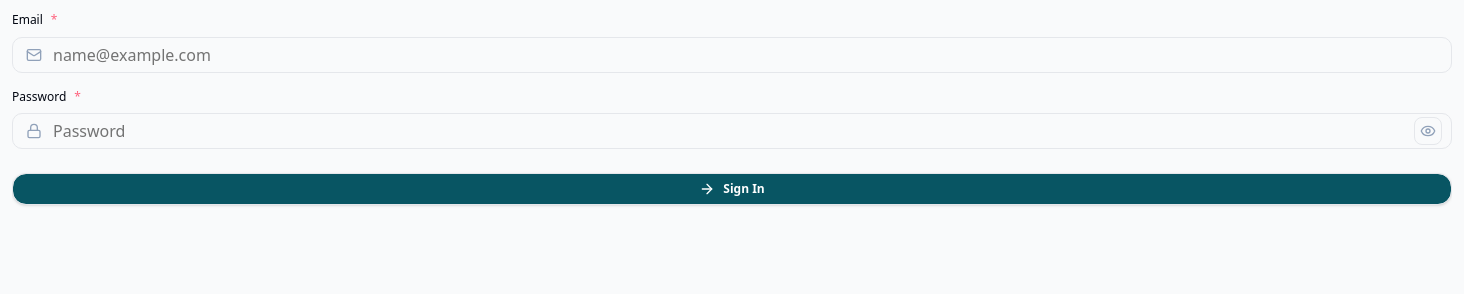
SignInForm › shows the generic error message on an unexpected failure
Type "admin@example.com" into the field with placeholder "name@example.com" at (732, 54), box [12,36,1452,72]
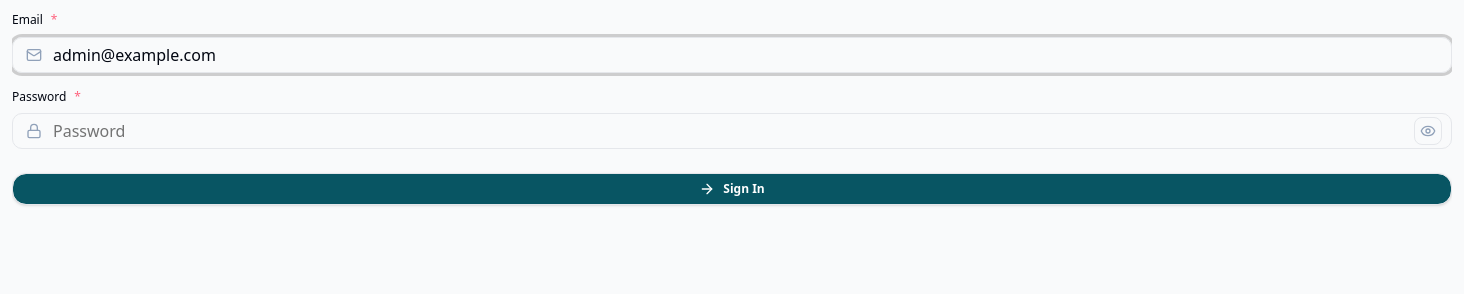
Type "password123" into the password field with placeholder "Password" at (732, 131), box [12,113,1452,149]
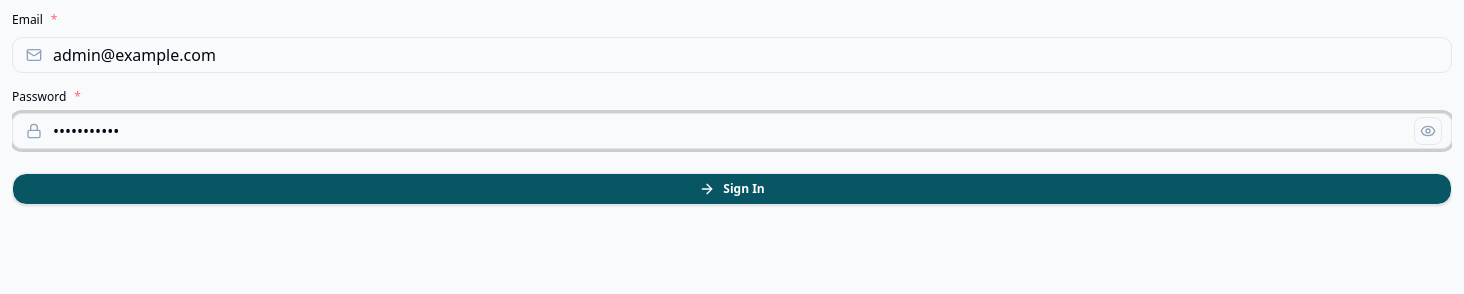
Click the button "Sign In" at (732, 189), box [12,173,1452,205]
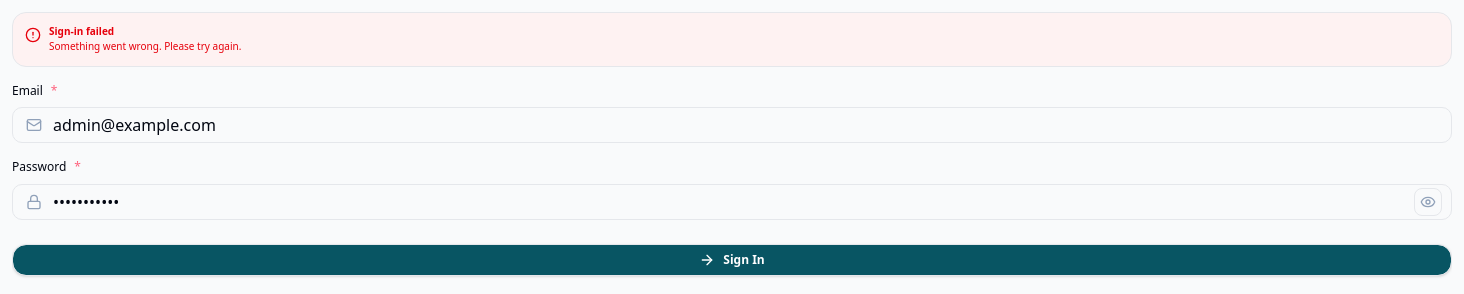
Check: the text "Something went wrong. Please try again." is shown, box [49,39,241,53]
